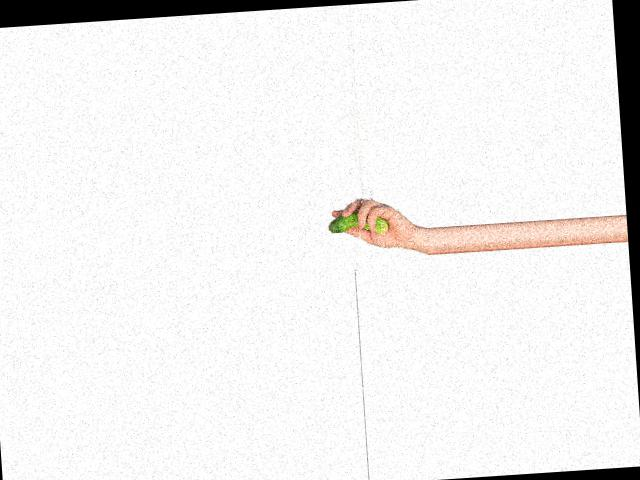cucumber: (327, 210, 388, 235)
